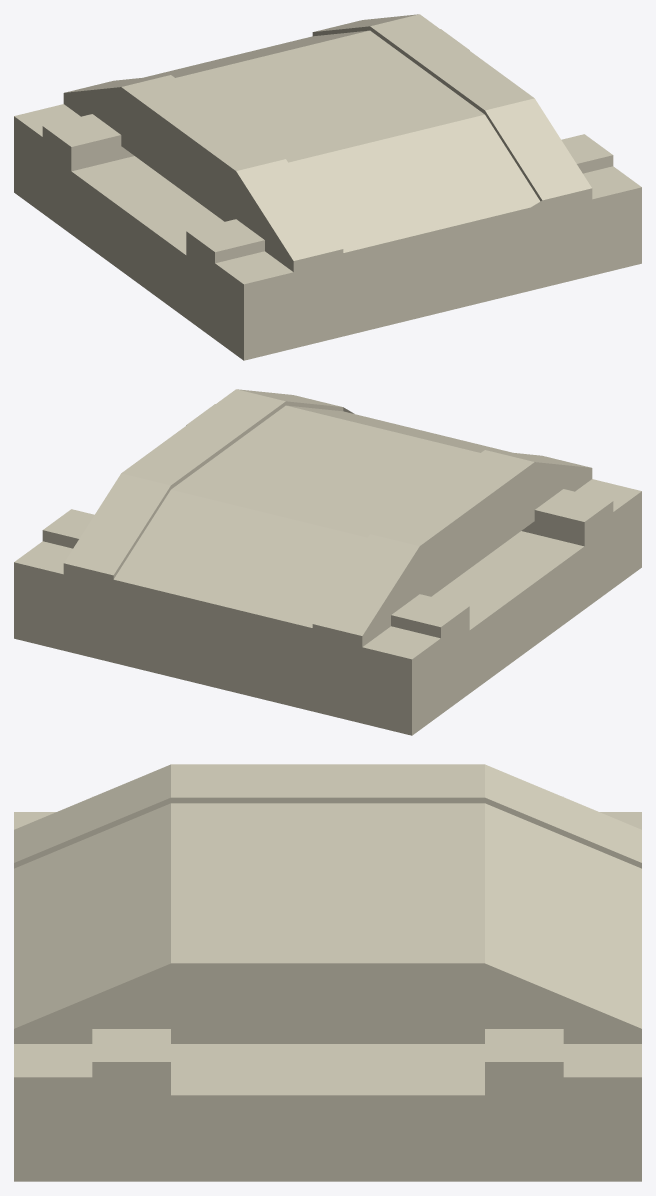
File: roadtile_233.glb
3 renders of one model, top to bottom at view 1: azimuth 30°, elevation 25°; view 2: azimuth 150°, elevation 25°; view 3: azimuth 270°, elevation 25°, orthographic. The views are drawn at different scales.
Visible parts, largest first — view 1: Mesh1 Group1 Model; view 2: Mesh1 Group1 Model; view 3: Mesh1 Group1 Model.
Part boxes in pixels (box(x1,y1,x2,y2)): Mesh1 Group1 Model: box(14, 14, 641, 360); Mesh1 Group1 Model: box(14, 389, 641, 735); Mesh1 Group1 Model: box(14, 764, 641, 1181).
Size of the model in its own units: 3 by 0.975 by 3.
